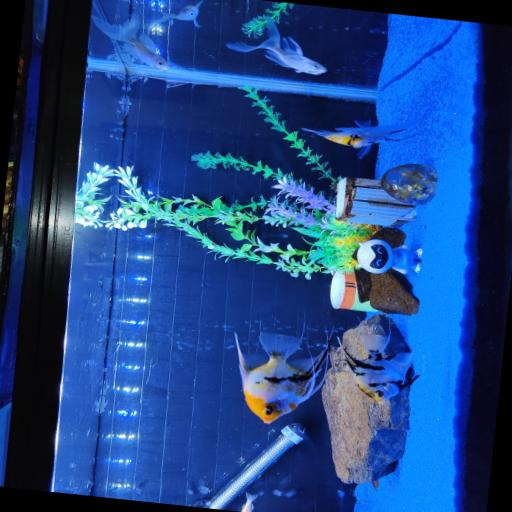Fish: (236, 333, 327, 423), (226, 17, 327, 75), (338, 334, 418, 404), (304, 119, 422, 158), (93, 16, 169, 71), (149, 2, 202, 30), (242, 493, 258, 511)
